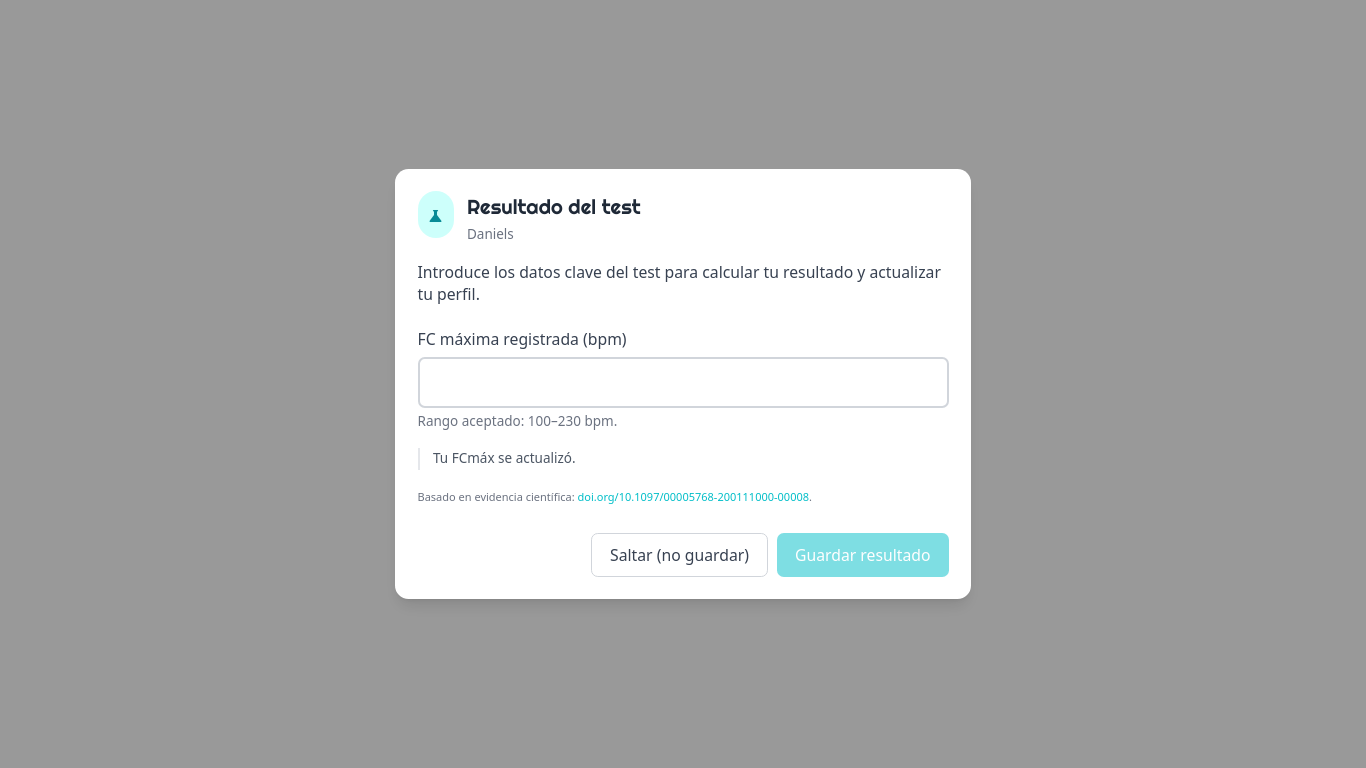
TestResultDialog › input fuera de rango deja Guardar deshabilitado y muestra error
In the number field labelled "FC máxima registrada (bpm) Rango aceptado: 100–230 bpm.": coordinates (683, 382) [418,357,948,408], type "50"
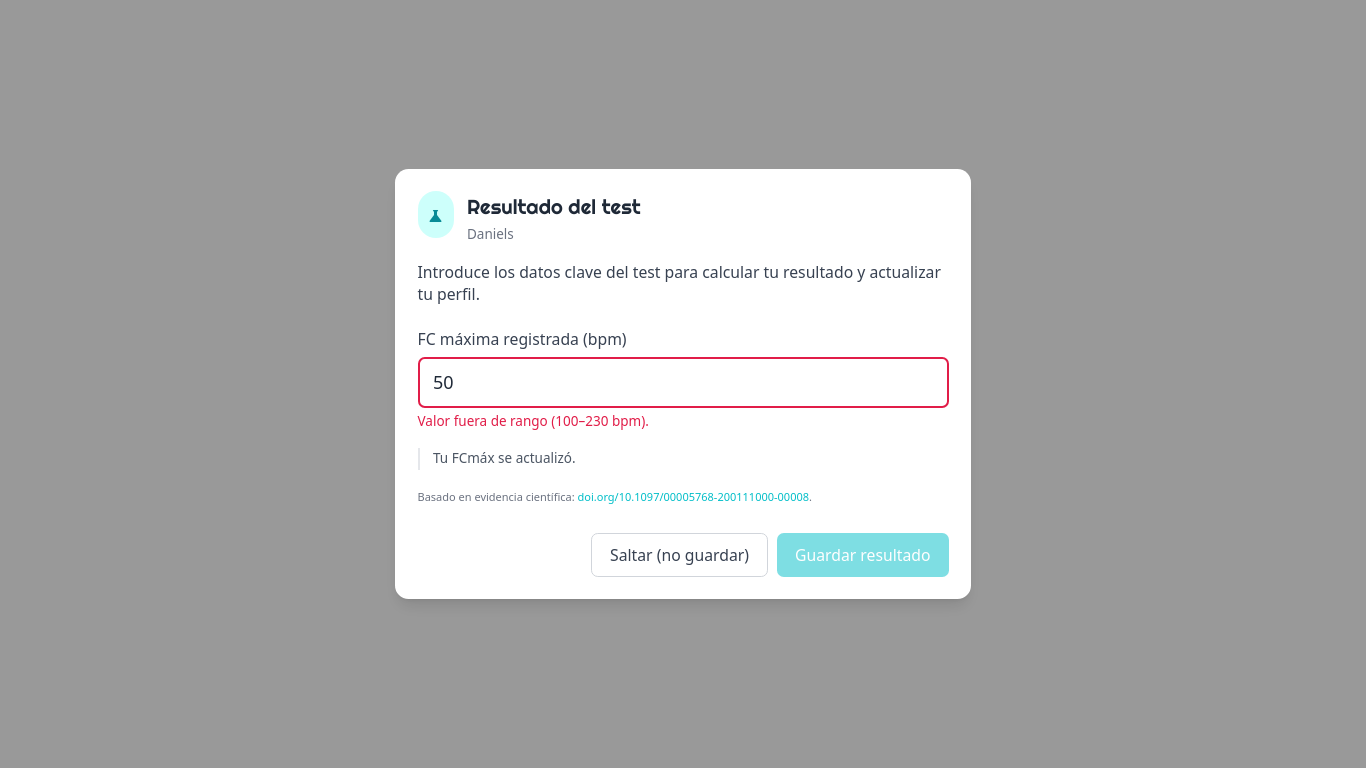
Expected: the button "Guardar resultado" is disabled, [777,533,948,577]
Expected: the text "Valor fuera de rango (100–230 bpm)." is shown, [418,412,649,430]
